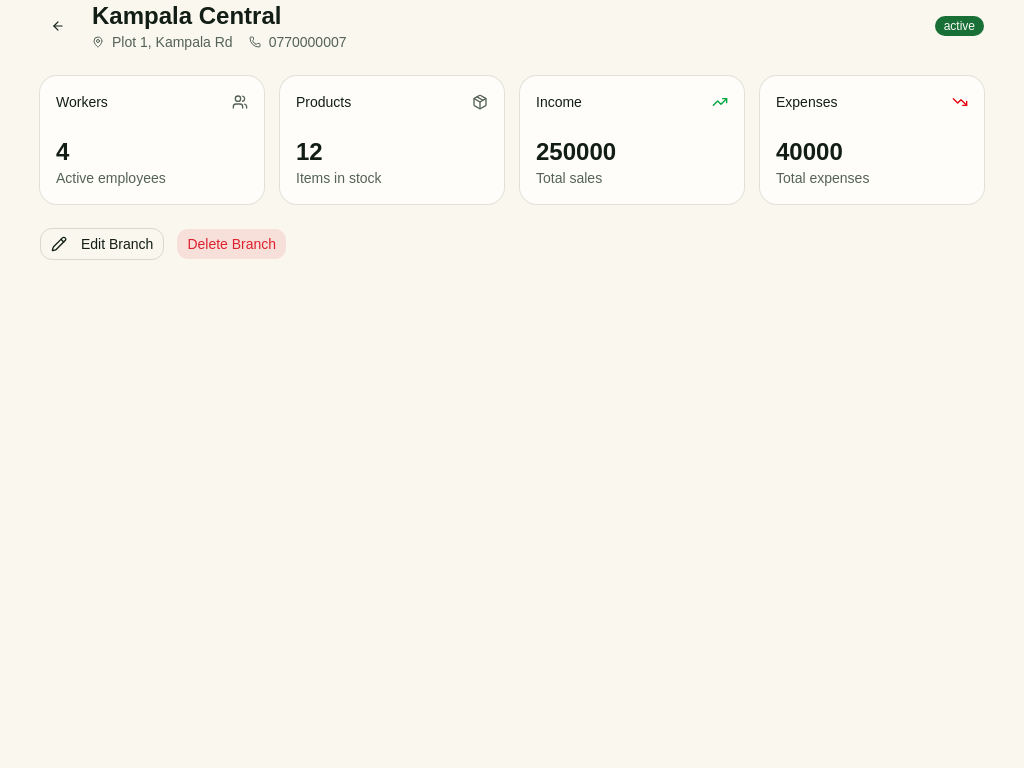
Scenario: BranchDetail › opens a prefilled edit dialog rather than a dead link
Click the button "Edit Branch": coordinates (102, 244) [40,228,164,260]
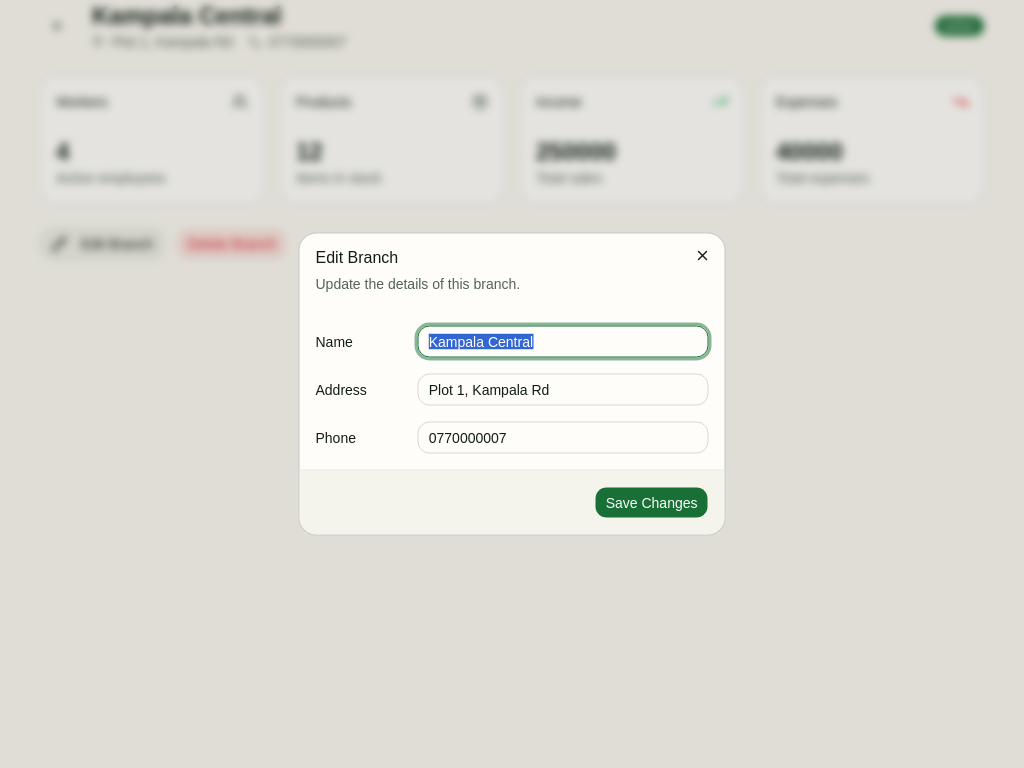
Check: the dialog is shown, box [300,234,724,534]
Check: the field labelled "Name" holds "Kampala Central", box [418,326,709,358]
Check: the field labelled "Address" holds "Plot 1, Kampala Rd", box [418,374,709,406]
